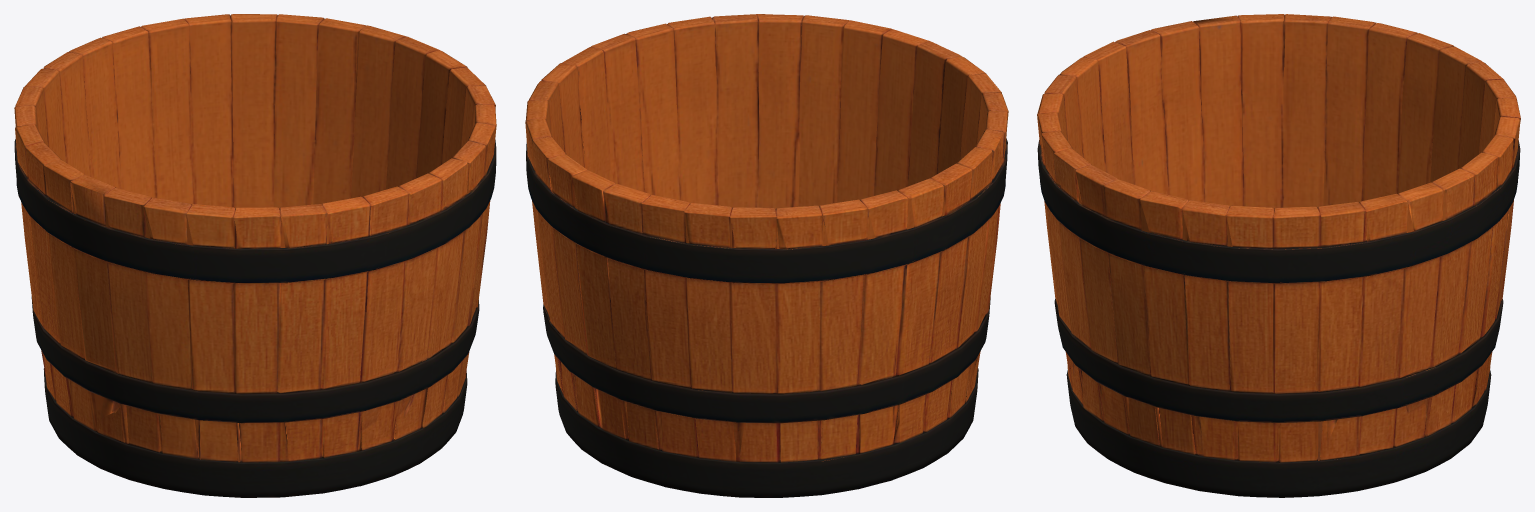
Rendered from bbqsmith_half_barrel.glb.
3 views of the same model, side by side, from view 1: azimuth 30°, elevation 25°; view 2: azimuth 150°, elevation 25°; view 3: azimuth 270°, elevation 25° (orthographic).
Visible parts, largest first — view 1: tripo_node_ab00c55d-7e09-4afc-ab27-f7b1de2d42b3; view 2: tripo_node_ab00c55d-7e09-4afc-ab27-f7b1de2d42b3; view 3: tripo_node_ab00c55d-7e09-4afc-ab27-f7b1de2d42b3.
Part boxes in pixels (x1,y1,x2,y2): tripo_node_ab00c55d-7e09-4afc-ab27-f7b1de2d42b3: (14, 14, 496, 497); tripo_node_ab00c55d-7e09-4afc-ab27-f7b1de2d42b3: (525, 14, 1008, 497); tripo_node_ab00c55d-7e09-4afc-ab27-f7b1de2d42b3: (1037, 14, 1520, 497).
Bounding box in the file's own units: 0.9995 × 0.6772 × 0.9995.
1 material, 1 textured.
